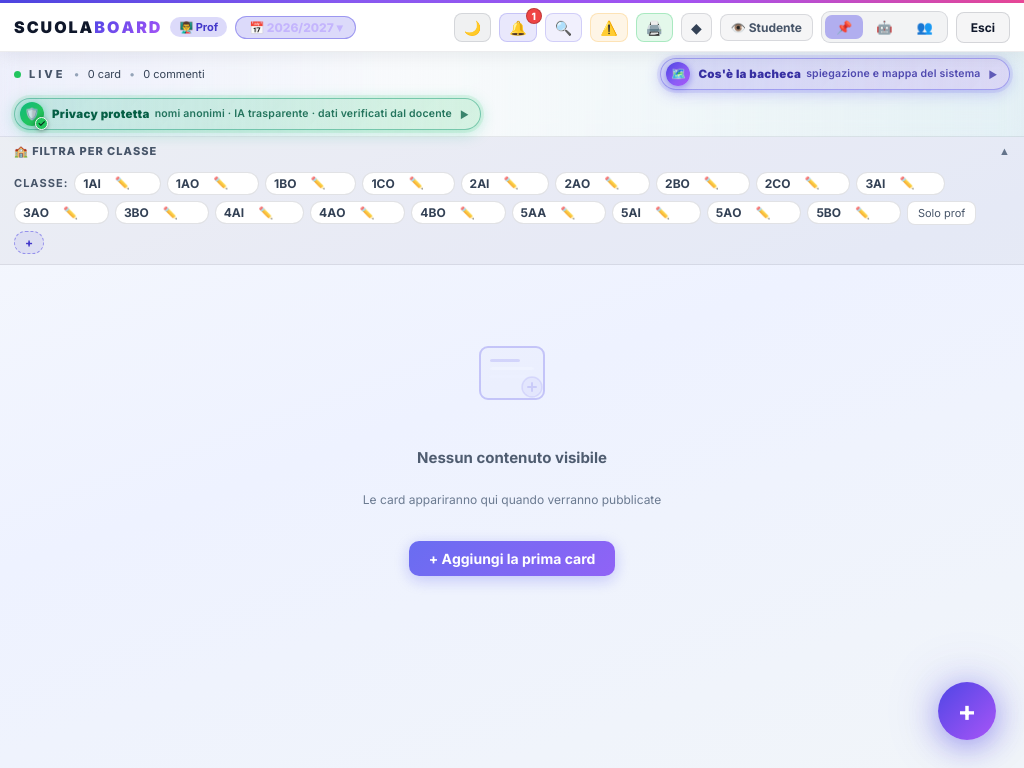
Test: avvisi di classe: nessun avviso doppio nella lista › due notifiche con lo stesso id vengono mostrate una volta sola
This screenshot has width=1024, height=768.
// Il contatore delle non lette è 1, non 2.
Click the button titled "1 notifiche non lette": (518,27) [499,12,537,42]
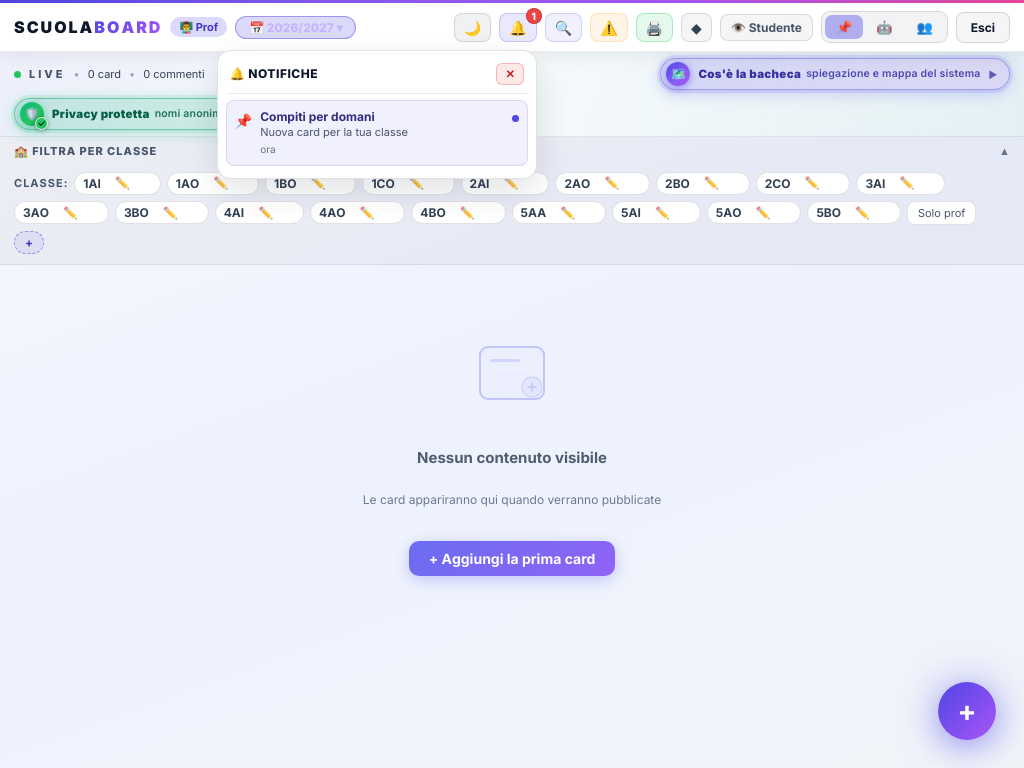
Expected: the text "Compiti per domani" is shown once, [260,108,375,124]
